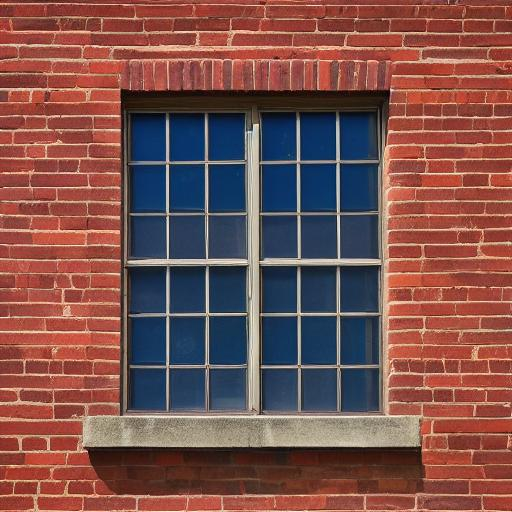Window: (82, 58, 423, 452)
